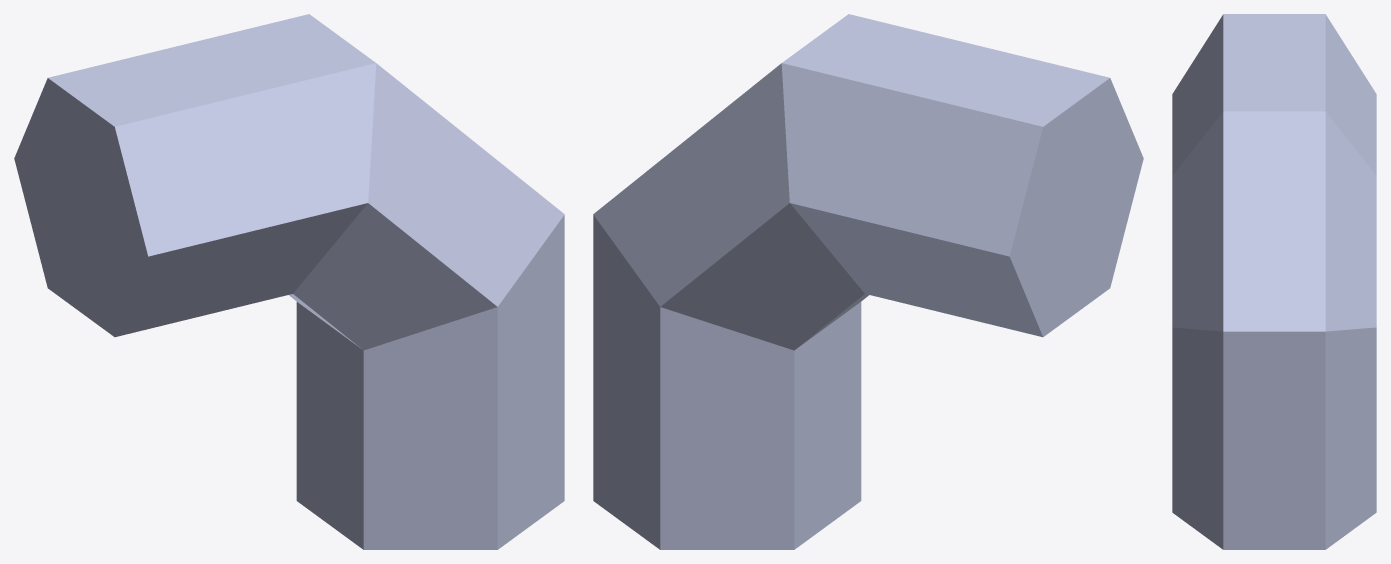
File: Pipe_90Degree.FBX
3 views of the same model, side by side, from view 1: azimuth 30°, elevation 25°; view 2: azimuth 150°, elevation 25°; view 3: azimuth 270°, elevation 25° (orthographic). The views are drawn at different scales.
Visible parts, largest first — view 1: Sweep1; view 2: Sweep1; view 3: Sweep1.
Part boxes in pixels (x1,y1,x2,y2): Sweep1: [14, 14, 564, 549]; Sweep1: [593, 14, 1143, 549]; Sweep1: [1172, 14, 1376, 549].
Bounding box in the file's own units: 5.81 × 5.97 × 3.
